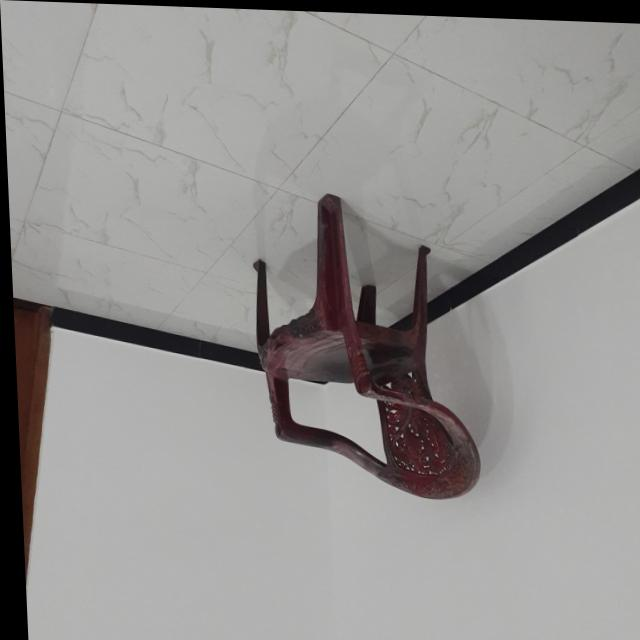Chair: (248, 187, 477, 501)
